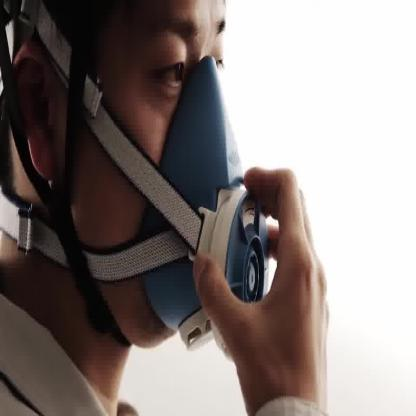mask: (132, 44, 272, 360)
